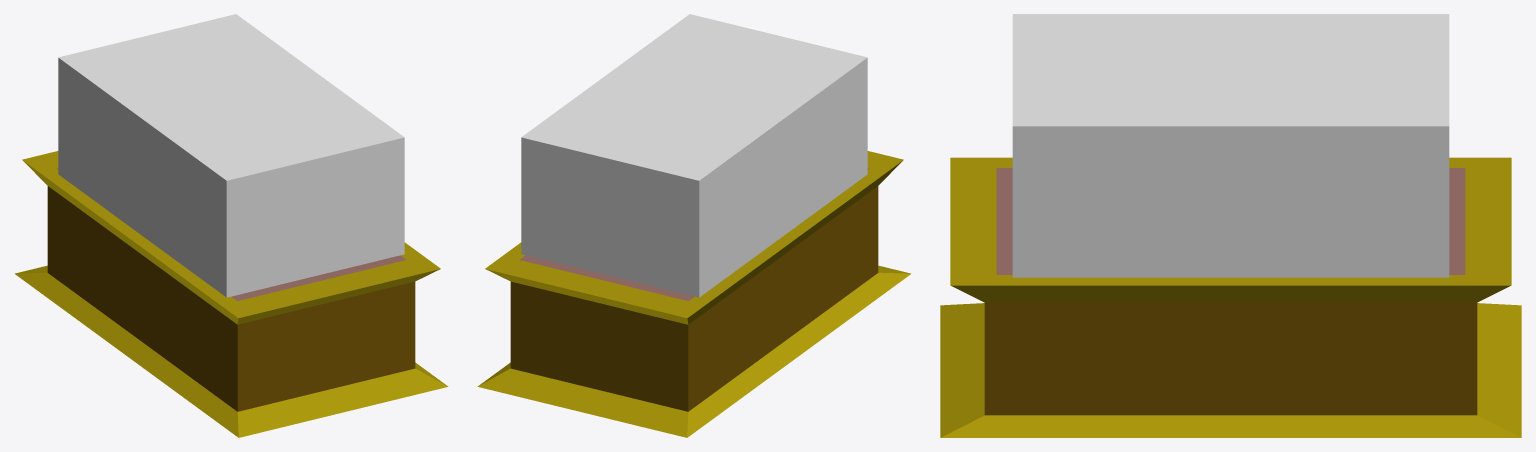
The model's file is Showing Case_Small.fbx.
3 views of the same model, side by side, from view 1: azimuth 30°, elevation 25°; view 2: azimuth 150°, elevation 25°; view 3: azimuth 270°, elevation 25° (orthographic). The views are drawn at different scales.
Visible parts, largest first — view 1: Showing_Case_1_pCube1; view 2: Showing_Case_1_pCube1; view 3: Showing_Case_1_pCube1.
Boxes of the visible parts, box(x1,y1,x2,y2) form: Showing_Case_1_pCube1: box(15, 14, 448, 437); Showing_Case_1_pCube1: box(477, 14, 910, 437); Showing_Case_1_pCube1: box(940, 14, 1521, 437).
Bounding box in the file's own units: 6.18 × 6.55 × 11.44.
